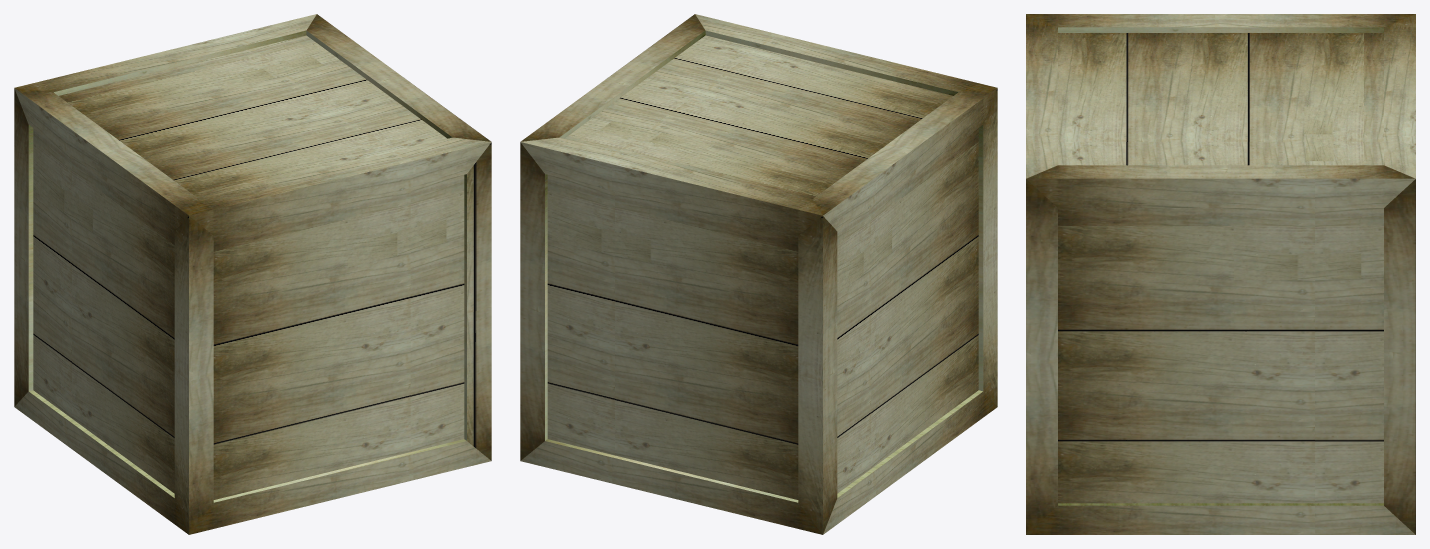
3 views of the same model, side by side, from view 1: azimuth 30°, elevation 25°; view 2: azimuth 150°, elevation 25°; view 3: azimuth 270°, elevation 25° (orthographic). The views are drawn at different scales.
Parts seen in each view (by area): view 1: Model; view 2: Model; view 3: Model.
Boxes of the visible parts, bbox=[...] form: Model: bbox=[14, 14, 491, 534]; Model: bbox=[520, 14, 997, 534]; Model: bbox=[1026, 14, 1415, 534].
Size of the model in its own units: 1.29 by 1.3 by 1.29.
Materials: 5 (5 with a texture image).
